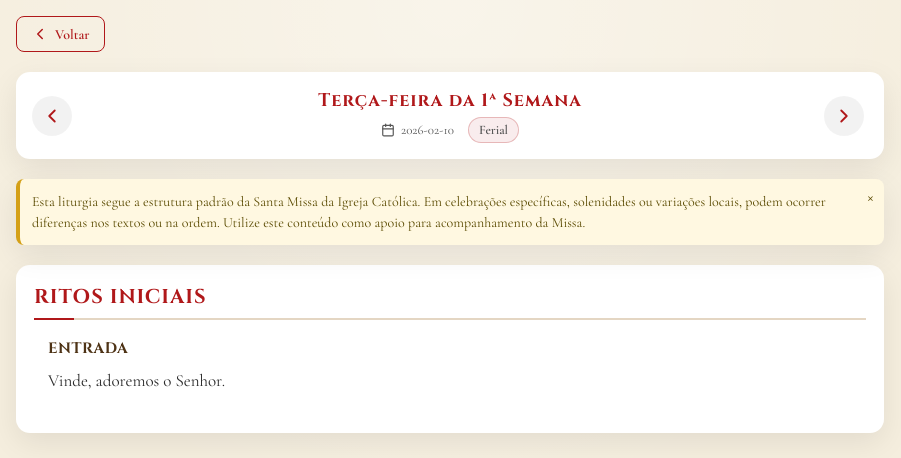
Test: LiturgiaFull › dismisses the standing notice
This screenshot has width=901, height=458.
Check: the heading "Terça-feira da 1ª Semana" is shown, box [318, 88, 582, 113]
Click the button "×" at (871, 196), box [867, 185, 874, 207]
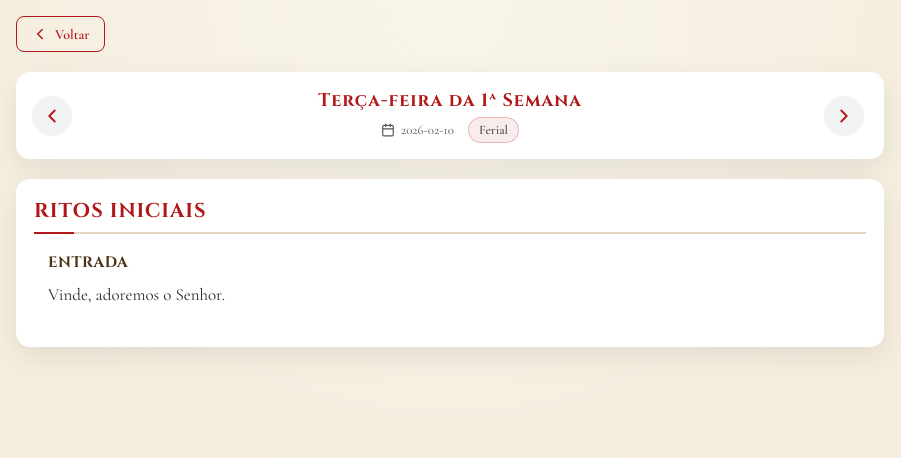
Check: the text "estrutura padrão da Santa Missa" is gone
